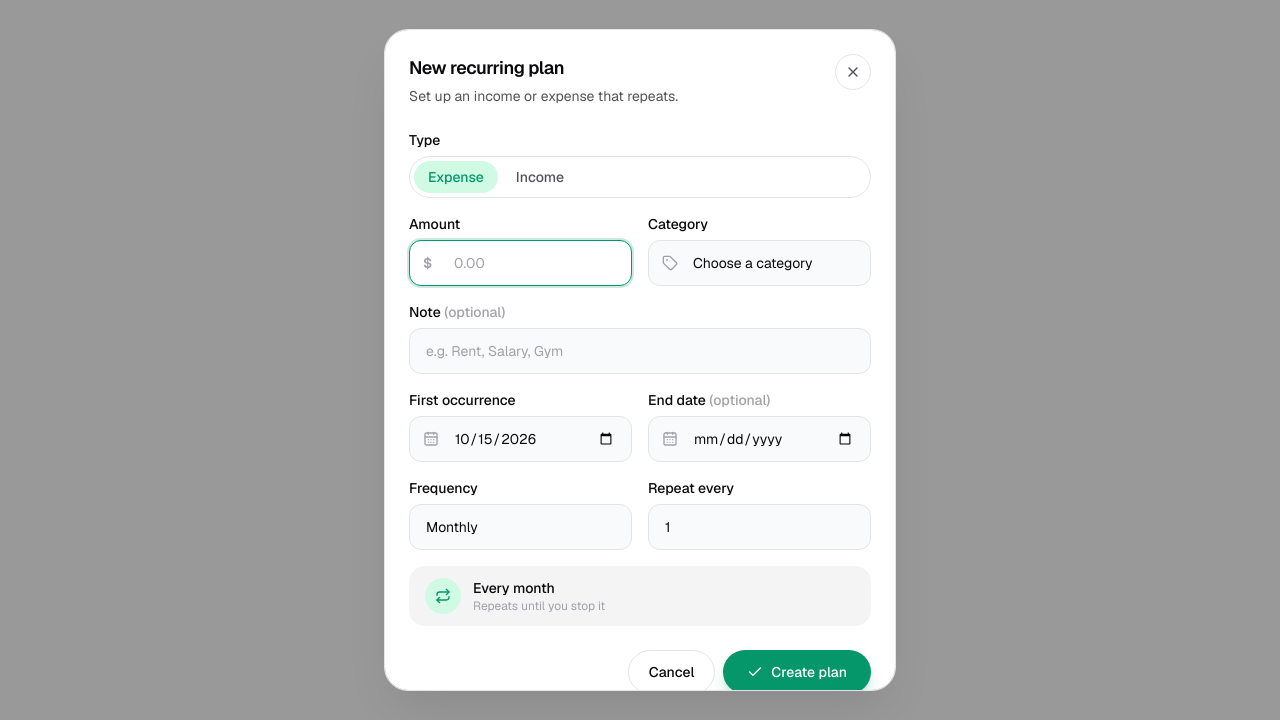
RecurringFormModal › creating a plan › requires an amount and a category, saving nothing
Click the button "Create plan".
click(797, 672)  # box [723,650,871,694]
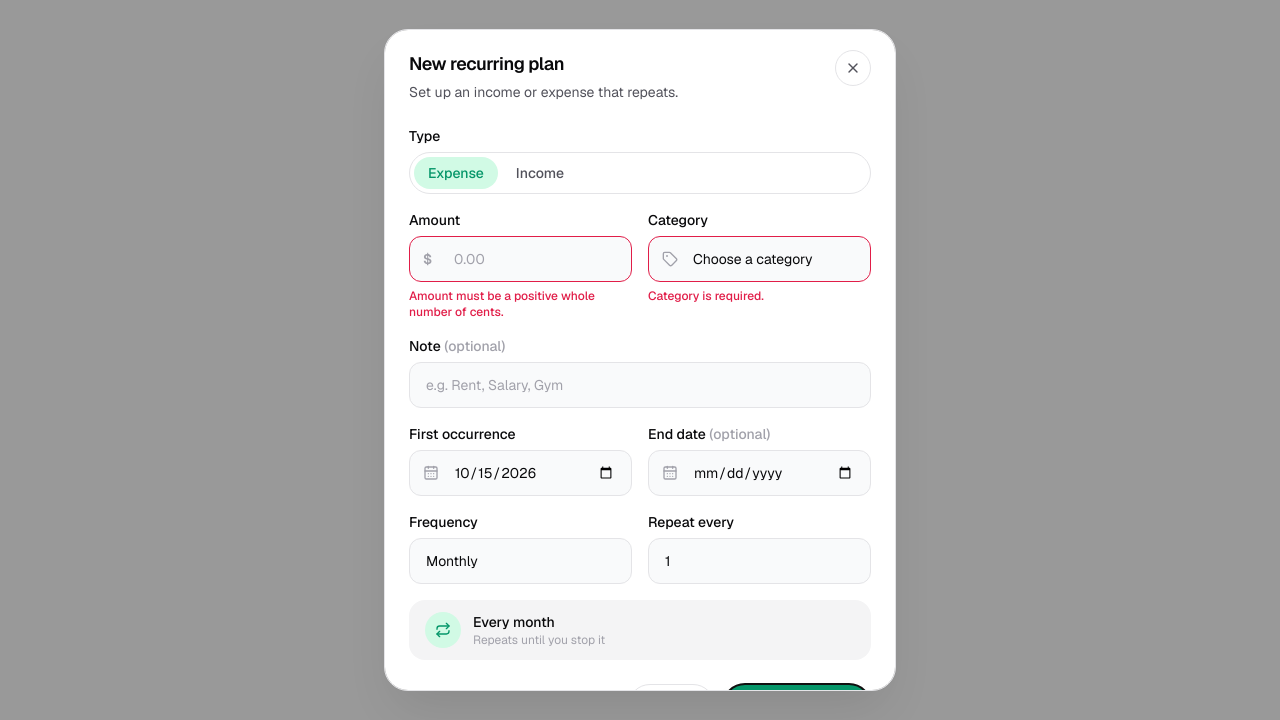
Result: the text "Amount must be a positive whole number of cents." is shown at [409,288,595,320]
Result: the text "Category is required." is shown at [648,288,764,304]
